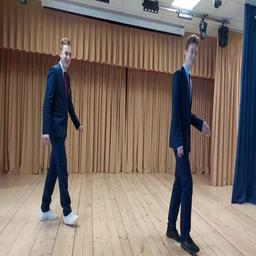person: (167, 35, 210, 253), (39, 38, 83, 226)
